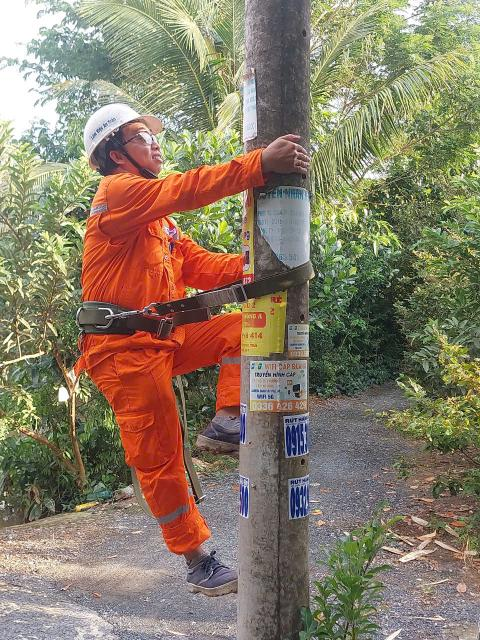harness: (71, 284, 212, 342)
helmet: (71, 102, 152, 158)
shoes: (194, 398, 275, 472), (181, 541, 247, 605)
